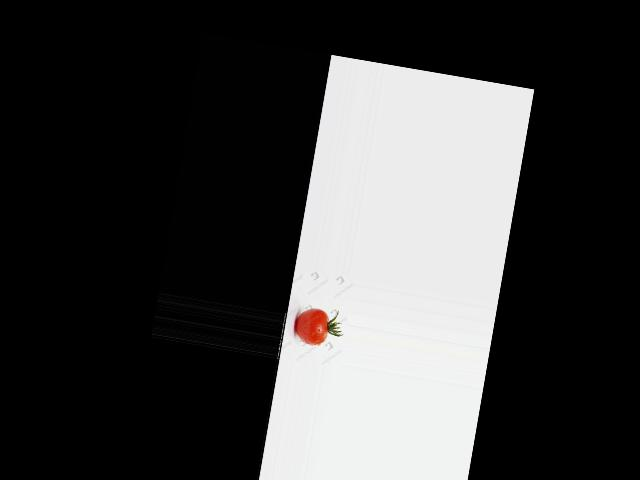tomato: (292, 305, 330, 346)
